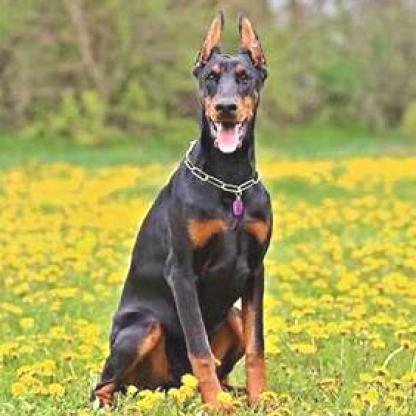dog: (92, 10, 274, 415)
